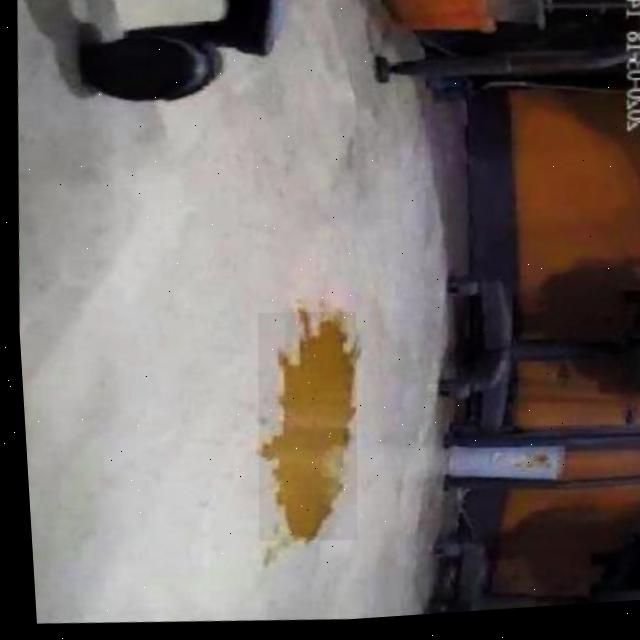spillage: (253, 317, 350, 544)
